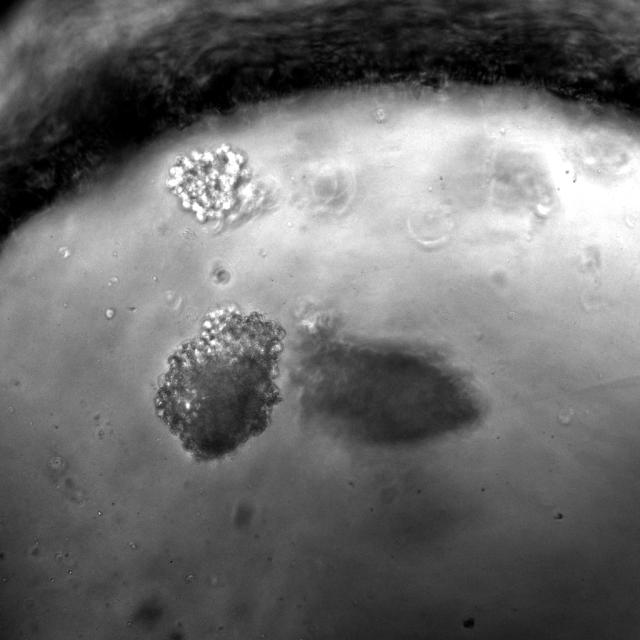organoid: (291, 300, 484, 443), (156, 307, 285, 459), (166, 144, 279, 232)
